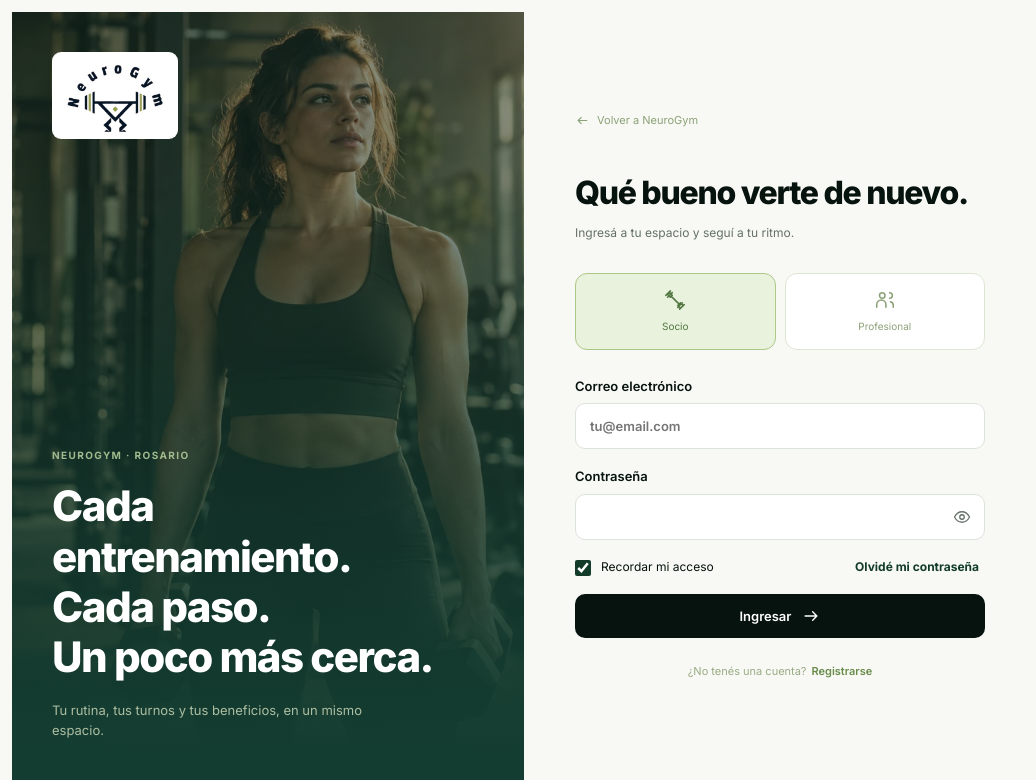
componentes › el formulario de ingreso valida antes de llamar a la API
Click the button "Ingresar". click: (780, 616)
box: [575,594,985,638]
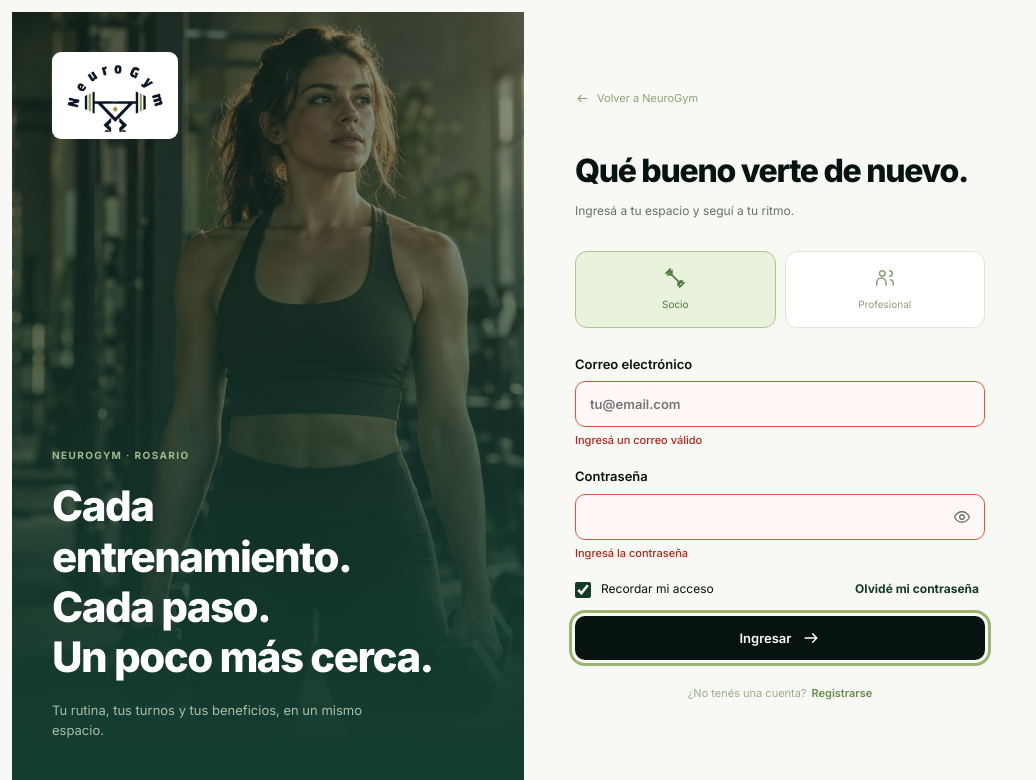
Check: the text "Ingresá un correo válido" is shown, box [575,433,702,447]
